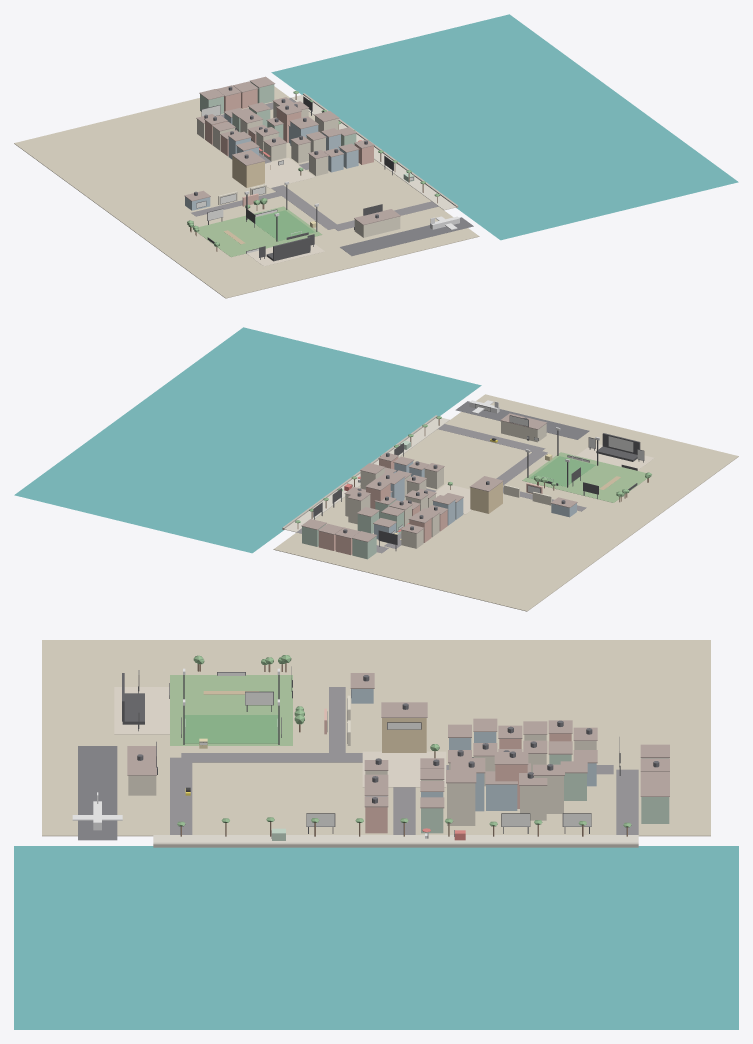
The model's file is world.glb.
The picture shows the model from 3 angles, top to bottom: view 1: azimuth 30°, elevation 25°; view 2: azimuth 150°, elevation 25°; view 3: azimuth 270°, elevation 25°; orthographic projection. The views are drawn at different scales.
Visible parts, largest first — view 1: sea, ground, maidan_ground, runway, promenade, isl_turf, chowk_plaza, studio_building, road_maidan_link, terminal, event_stage_wall, event_ground; view 2: sea, ground, maidan_ground, promenade, runway, isl_turf, studio_building, road_south, event_ground, terminal, road_maidan_link; view 3: sea, ground, maidan_ground, promenade, runway, seawall, isl_turf, event_ground, road_maidan_link, chowk_plaza, road_south, road_north (+12 smaller).
Part boxes in pixels (x1,y1,x2,y2): sea: (271, 14, 738, 240); ground: (14, 86, 479, 298); maidan_ground: (192, 206, 322, 257); runway: (340, 217, 473, 255); promenade: (291, 94, 456, 210); isl_turf: (249, 210, 314, 241); chowk_plaza: (263, 158, 314, 188); studio_building: (232, 156, 264, 187); road_maidan_link: (271, 185, 338, 229); terminal: (354, 216, 400, 237); event_stage_wall: (273, 237, 310, 259); event_ground: (247, 244, 324, 266); sea: (14, 327, 481, 553); ground: (273, 394, 738, 611); maidan_ground: (522, 452, 652, 502); promenade: (284, 418, 449, 532); runway: (455, 401, 589, 439); isl_turf: (530, 456, 595, 486); studio_building: (470, 482, 502, 513); road_south: (438, 424, 545, 453); event_ground: (576, 443, 654, 470); terminal: (501, 421, 546, 442); road_maidan_link: (496, 449, 547, 485); sea: (14, 846, 738, 1029); ground: (42, 640, 710, 836); maidan_ground: (170, 675, 292, 745); promenade: (153, 835, 638, 842); runway: (78, 746, 117, 840); seawall: (153, 842, 638, 847); isl_turf: (184, 715, 278, 743); event_ground: (114, 687, 169, 734); road_maidan_link: (181, 753, 362, 762); chowk_plaza: (362, 751, 446, 787); road_south: (170, 757, 192, 834); road_north: (616, 769, 638, 834).
Size of the model in its own units: 330 by 20.11 by 260.
